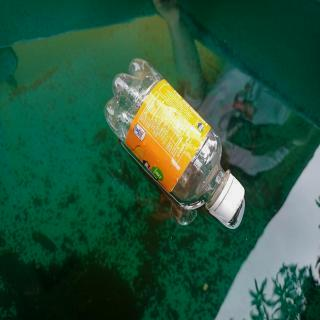bottle: (104, 57, 245, 225)
